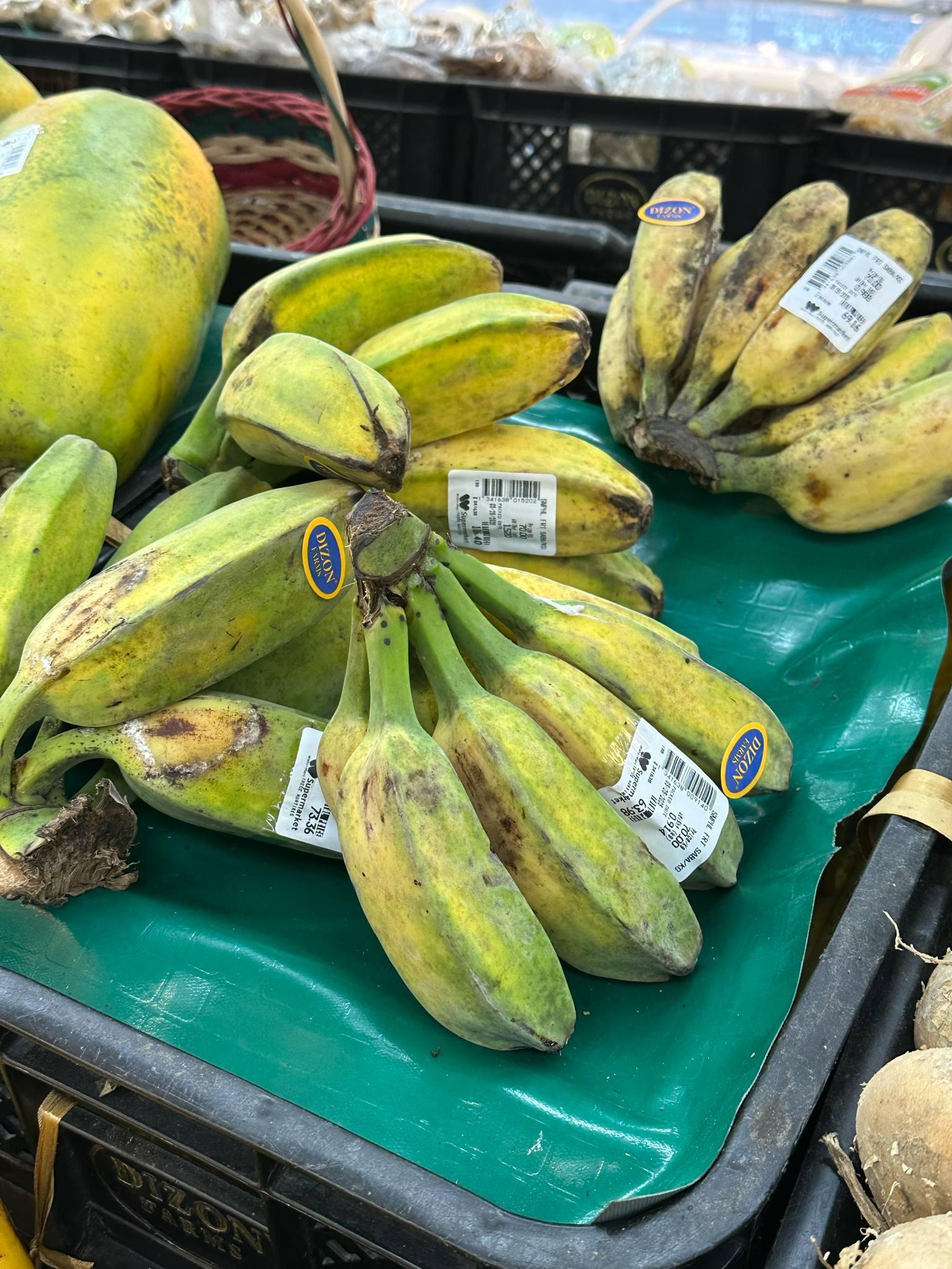underripe: (312, 561, 793, 1052), (0, 436, 363, 835), (218, 235, 651, 556), (598, 171, 951, 537)
